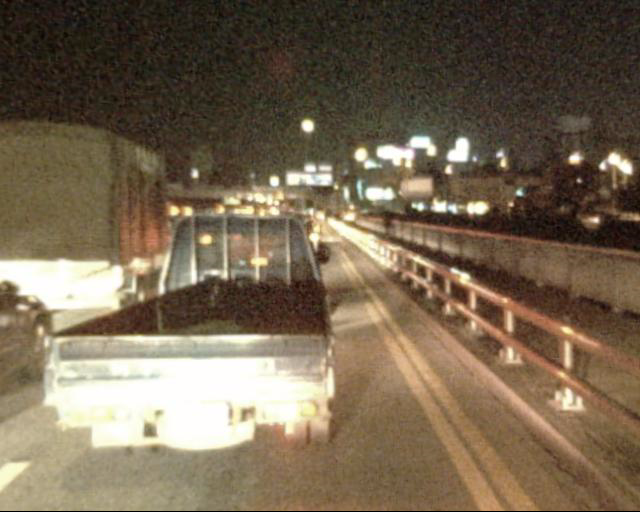person: (377, 208, 397, 247)
